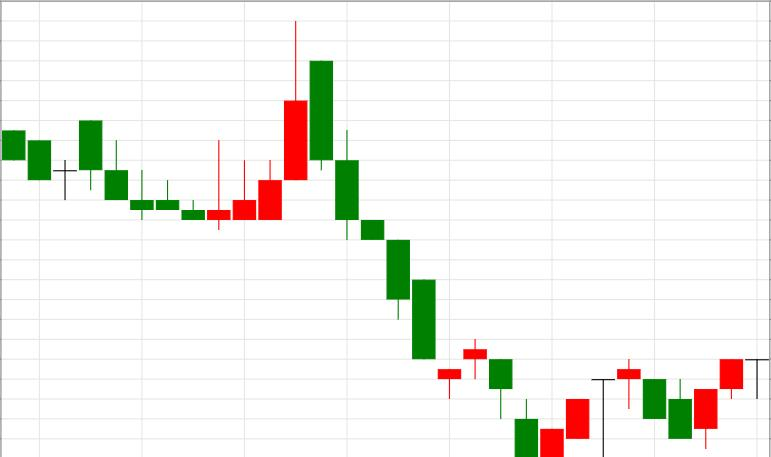three_black_crows_fall: (208, 22, 385, 238)
